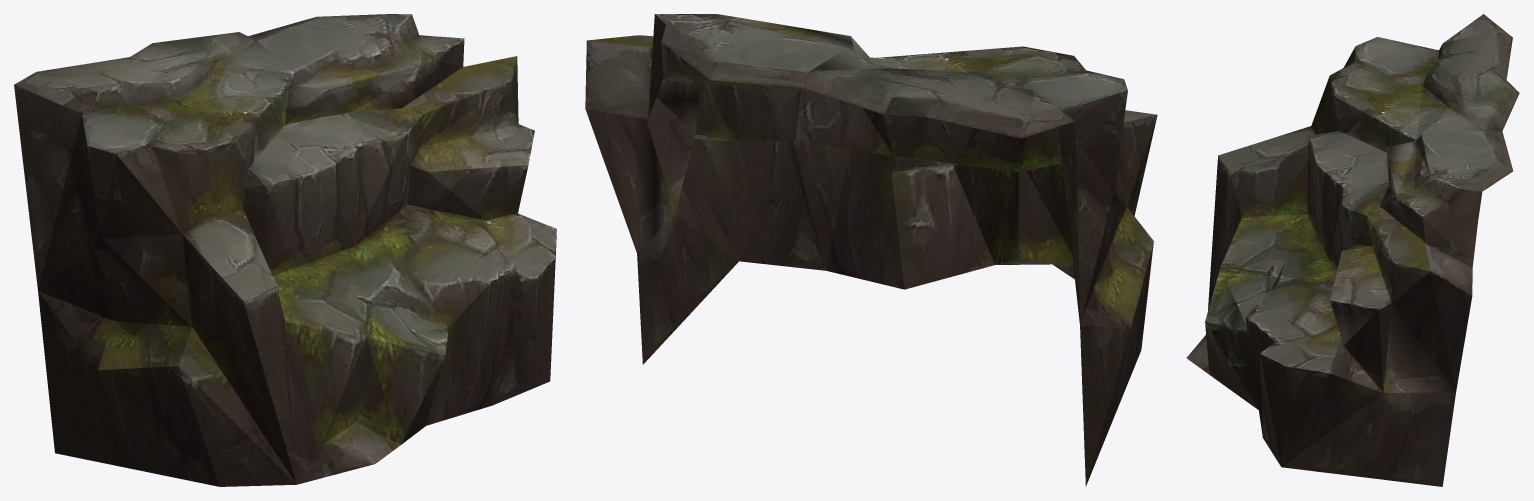
The model's file is shitou1_2.fbx.
3 renders of one model, left to right at view 1: azimuth 30°, elevation 25°; view 2: azimuth 150°, elevation 25°; view 3: azimuth 270°, elevation 25°, orthographic. The views are drawn at different scales.
Parts seen in each view (by area): view 1: shitou1_2; view 2: shitou1_2; view 3: shitou1_2.
Boxes of the visible parts, box(x1,y1,x2,y2) form: shitou1_2: box(14, 14, 556, 486); shitou1_2: box(585, 14, 1157, 485); shitou1_2: box(1186, 14, 1519, 486).
Bounding box in the file's own units: 35.65 × 25.48 × 24.94.
